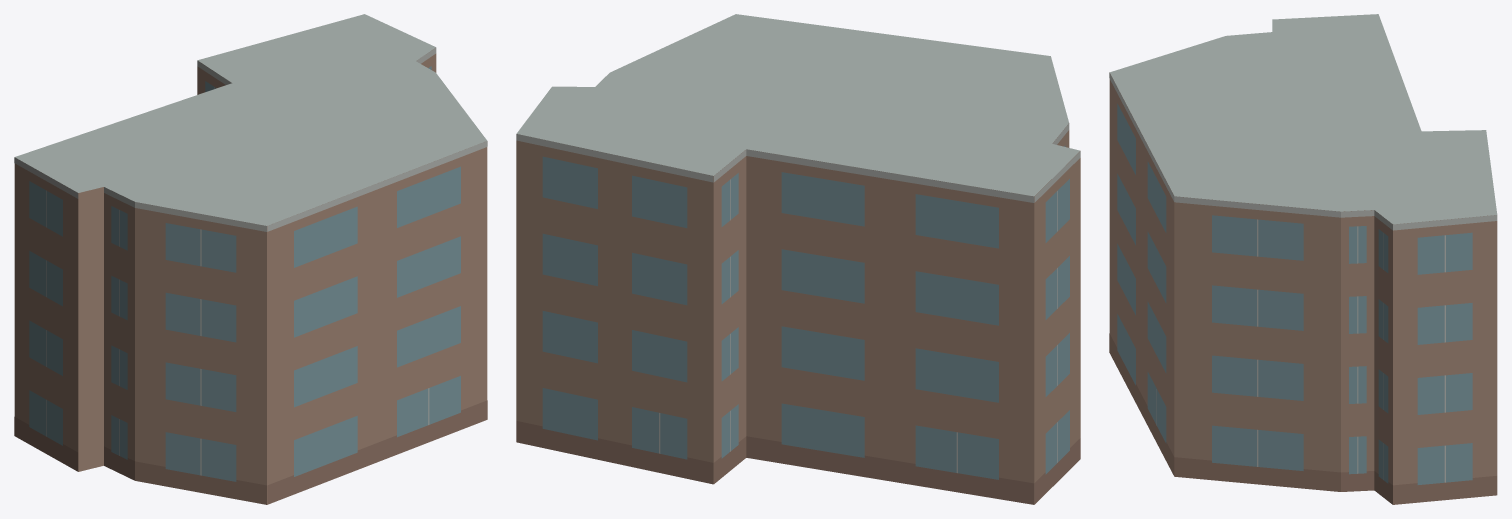
File: survey-upis-33017977.glb
3 views of the same model, side by side, from view 1: azimuth 30°, elevation 25°; view 2: azimuth 150°, elevation 25°; view 3: azimuth 270°, elevation 25° (orthographic). The views are drawn at different scales.
Visible parts, largest first — view 1: survey-upis-33017977.tmp; view 2: survey-upis-33017977.tmp; view 3: survey-upis-33017977.tmp.
Boxes of the visible parts, bbox=[...] form: survey-upis-33017977.tmp: bbox=[14, 14, 487, 504]; survey-upis-33017977.tmp: bbox=[516, 14, 1080, 504]; survey-upis-33017977.tmp: bbox=[1109, 14, 1497, 504].
Bounding box in the file's own units: 18.1 × 11.24 × 14.1.
